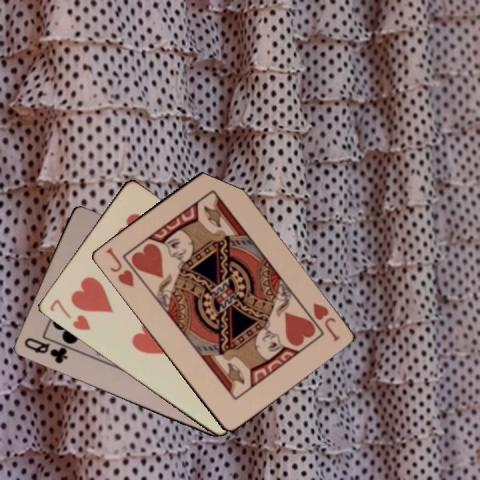7h: (46, 296, 93, 333)
Jh: (102, 244, 136, 288), (309, 300, 341, 343)
Qc: (20, 335, 68, 365)
